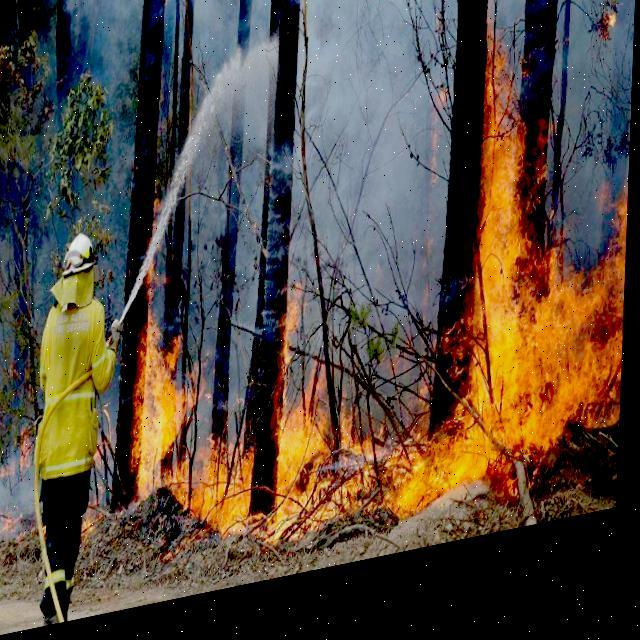Fire: (407, 46, 633, 534), (134, 178, 268, 565), (277, 279, 395, 551), (0, 380, 35, 486)
